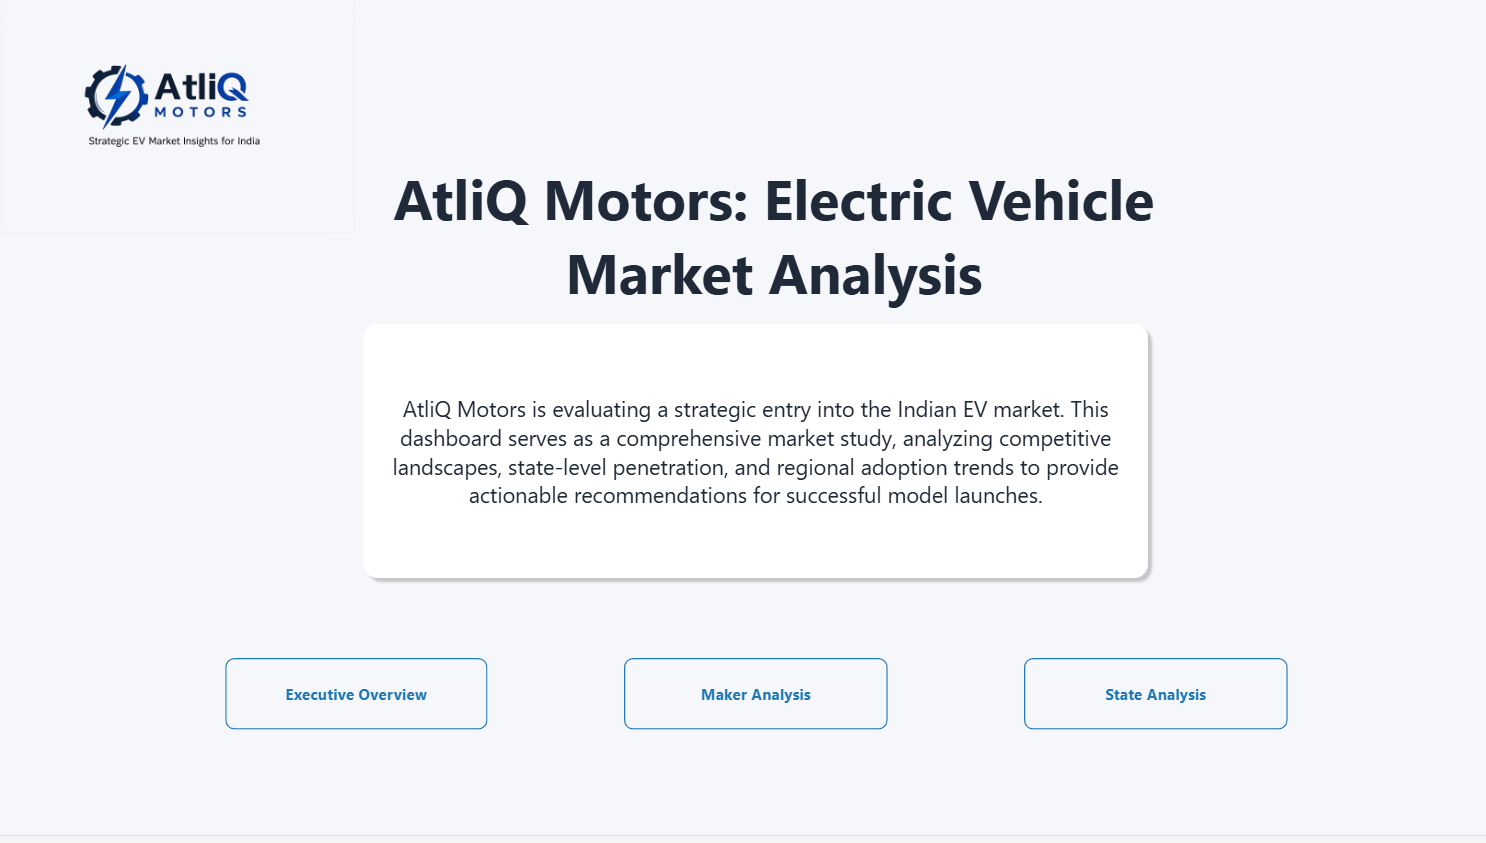

What the dashboard file says about the page in this screenshot:
{"tool":"powerbi","page":{"name":"Home","canvas":[1280,720],"ordinal":0},"visuals":[{"type":"image","box":[0,0,306.4,202.7],"z":0},{"type":"textbox","box":[247.3,98.9,838.5,205.1],"z":1000},{"type":"shape","box":[306.4,272.7,688.9,232.8],"z":2000},{"type":"actionButton","box":[194.2,568.2,225.6,61.5],"z":3000},{"type":"actionButton","box":[538.1,568.2,226.8,61.5],"z":4000},{"type":"actionButton","box":[881.9,568.2,226.8,61.5],"z":5000}]}

Visuals, with their boxes in screenshot pixels (x1, y1, x2, y2), scaled from the page's 1280x720 canvas onto the 1486x843 screenshot:
image: 0 0 356 237
textbox: 287 116 1261 356
shape: 356 319 1155 592
actionButton: 225 665 487 737
actionButton: 625 665 888 737
actionButton: 1024 665 1287 737
